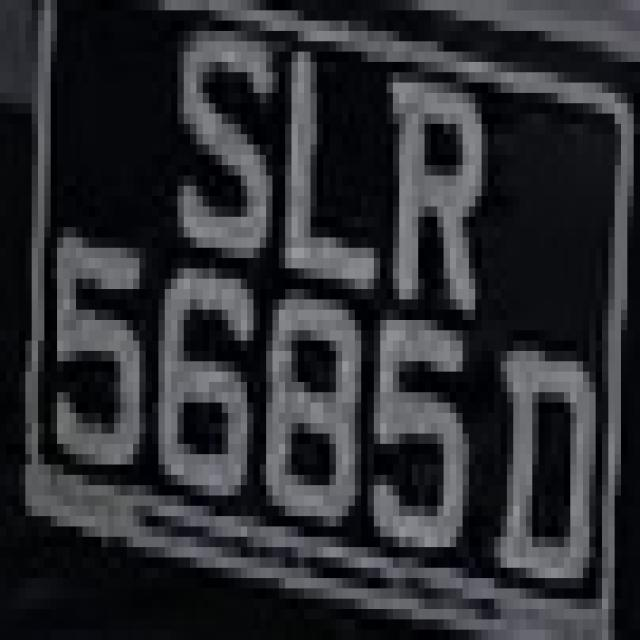5: (19, 196, 152, 496), (355, 268, 488, 568)
6: (146, 238, 253, 547)
8: (247, 268, 374, 558)
D: (494, 310, 615, 619)
L: (266, 21, 387, 320)
R: (380, 72, 507, 320)
S: (165, 10, 279, 279)
